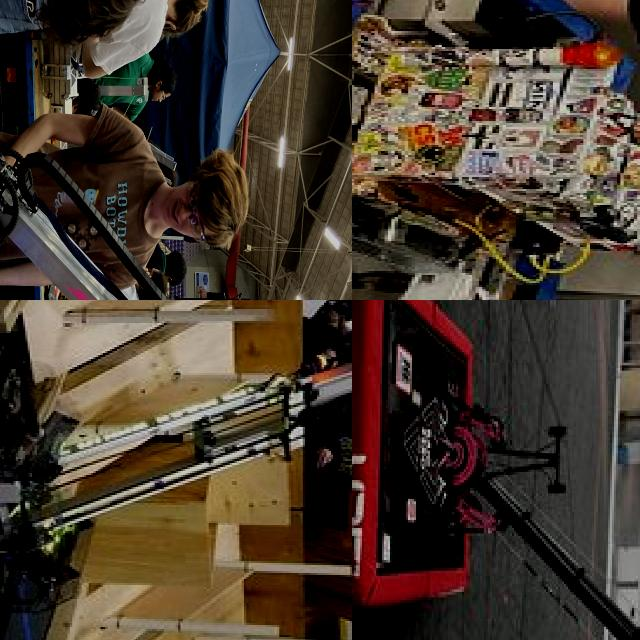FRC-Robots: (0, 300, 352, 640), (352, 300, 640, 640), (352, 0, 640, 300), (0, 98, 274, 300)
